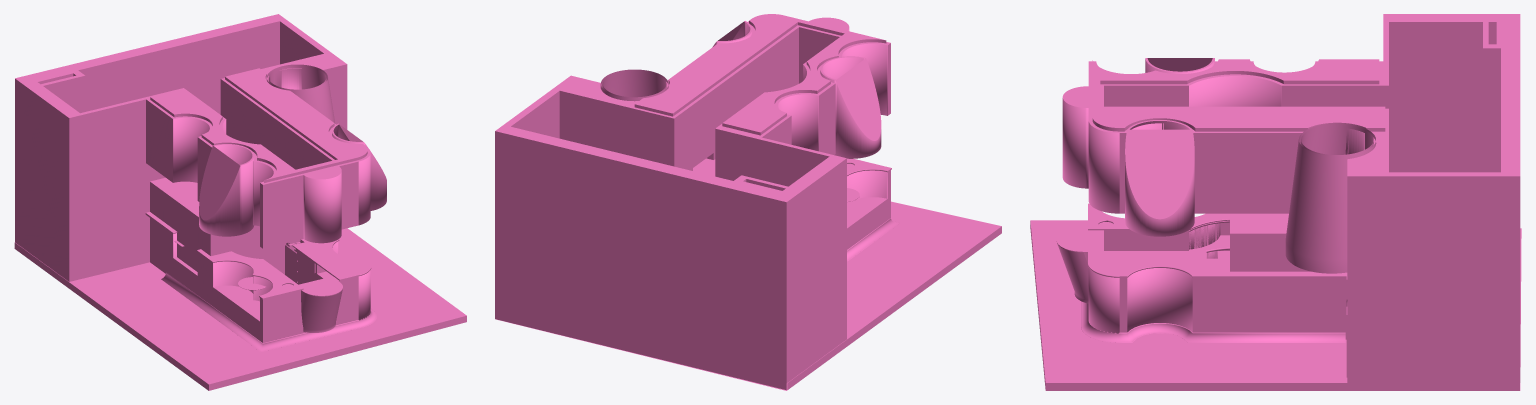
Rendered from asset.glb.
The picture shows the model from 3 angles, left to right: view 1: azimuth 30°, elevation 25°; view 2: azimuth 150°, elevation 25°; view 3: azimuth 270°, elevation 25°; orthographic projection. The views are drawn at different scales.
Visible parts, largest first — view 1: the final model.001, Cube.001; view 2: the final model.001; view 3: the final model.001, Cube.001.
Boxes of the visible parts, box(x1,y1,x2,y2) form: the final model.001: box(14, 14, 466, 390); Cube.001: box(150, 177, 286, 274); the final model.001: box(495, 14, 1001, 390); the final model.001: box(1030, 14, 1521, 390); Cube.001: box(1230, 213, 1310, 271).
Bounding box in the file's own units: 4.98 × 3.12 × 6.36.
